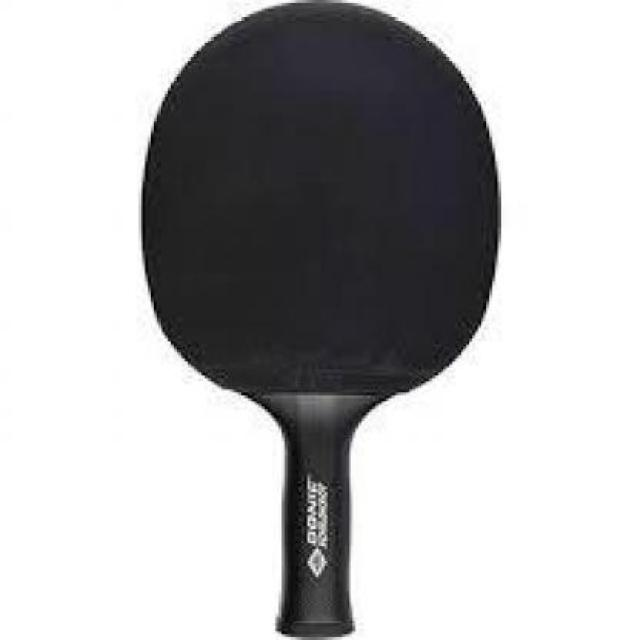table_tennis_racket: (137, 0, 506, 431)
